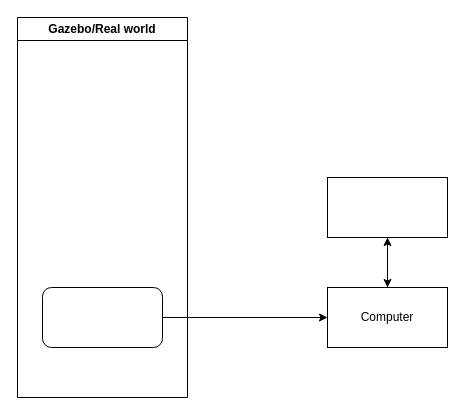
This 465x415 diagram has some shape labels left out. The shapes that lost their labels are listed below. From the top down, each one's centre as x and y in pixels, then its label:
(x=387, y=207): Ardupilot
(x=102, y=317): camera
